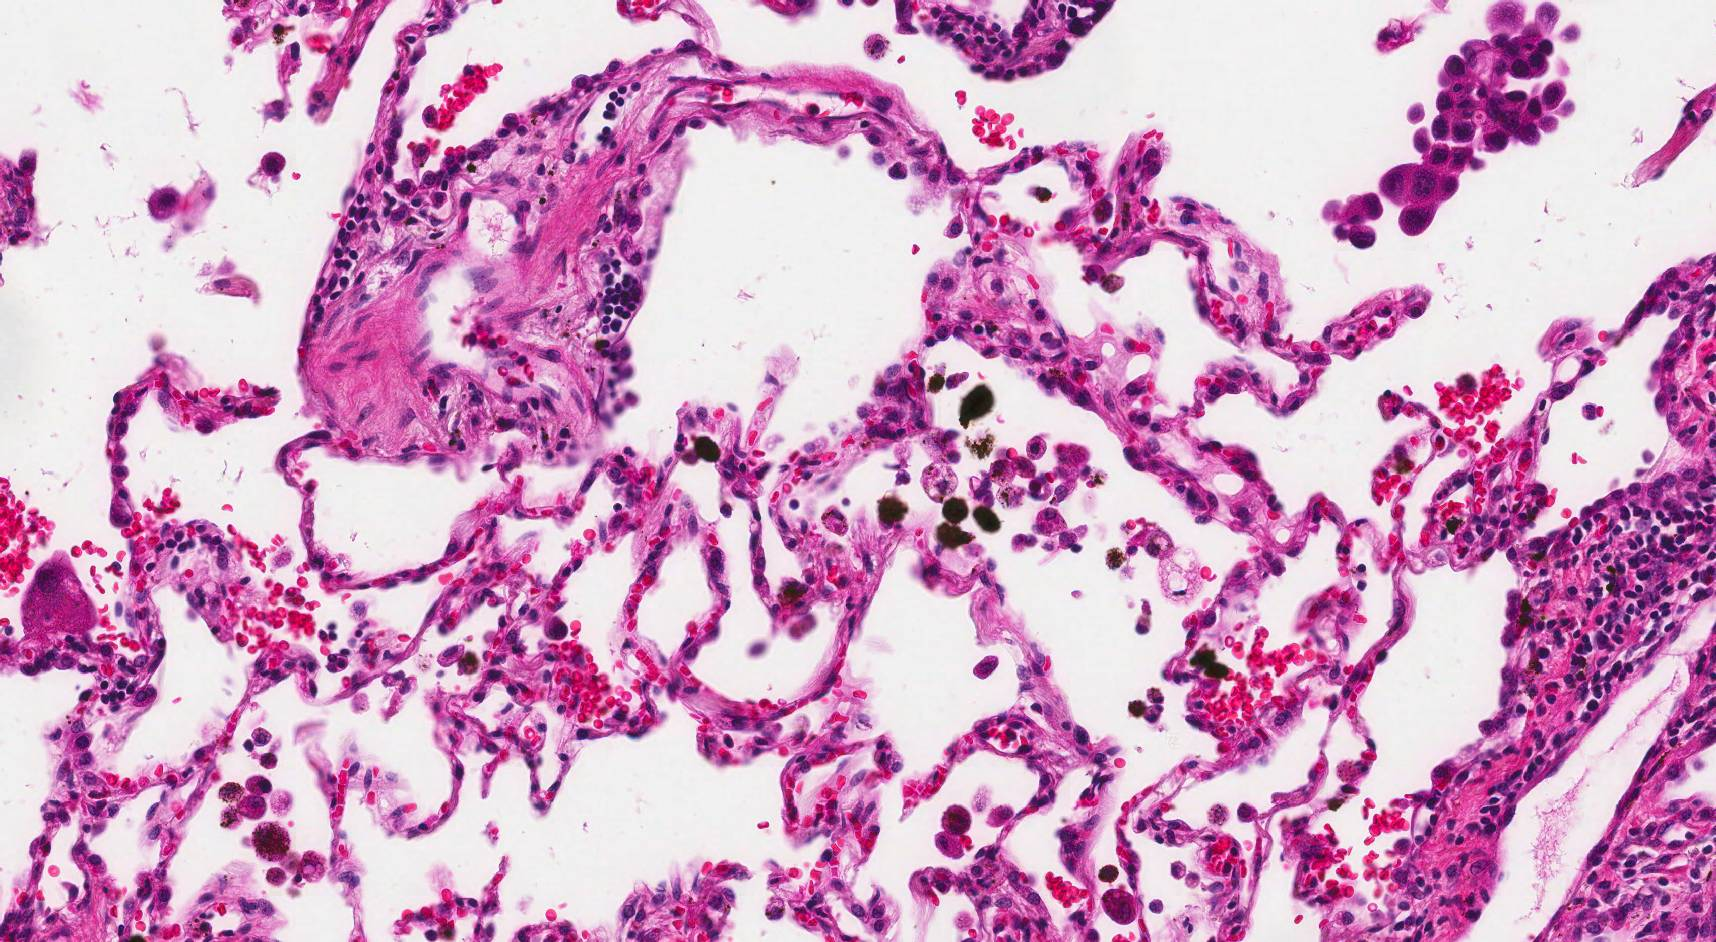stas: (1379, 1, 1579, 235), (1324, 193, 1383, 249)
